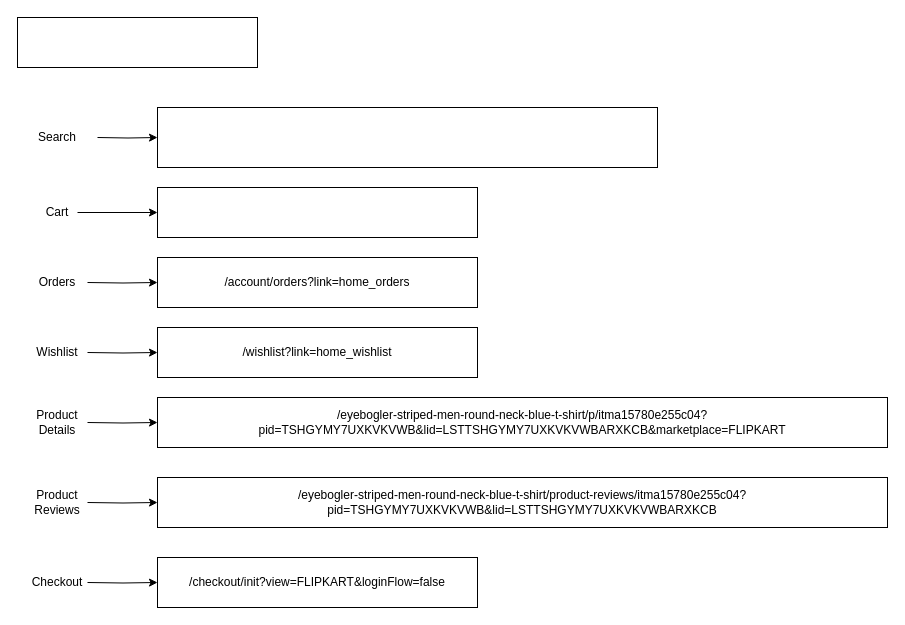
Some shapes in this 905 by 625 pixel diagram are drawn without their labels. Here are the shapes that lost their labels. From the top down, the box of each, then its label:
(16, 16, 258, 68): https://www.flipkart.com
(156, 106, 658, 168): /search?q=bike&otracker=search&otracker1=search&marketplace=FLIPKART
(156, 186, 478, 238): /viewcart?exploreMode=true&preference=FLIPKART
